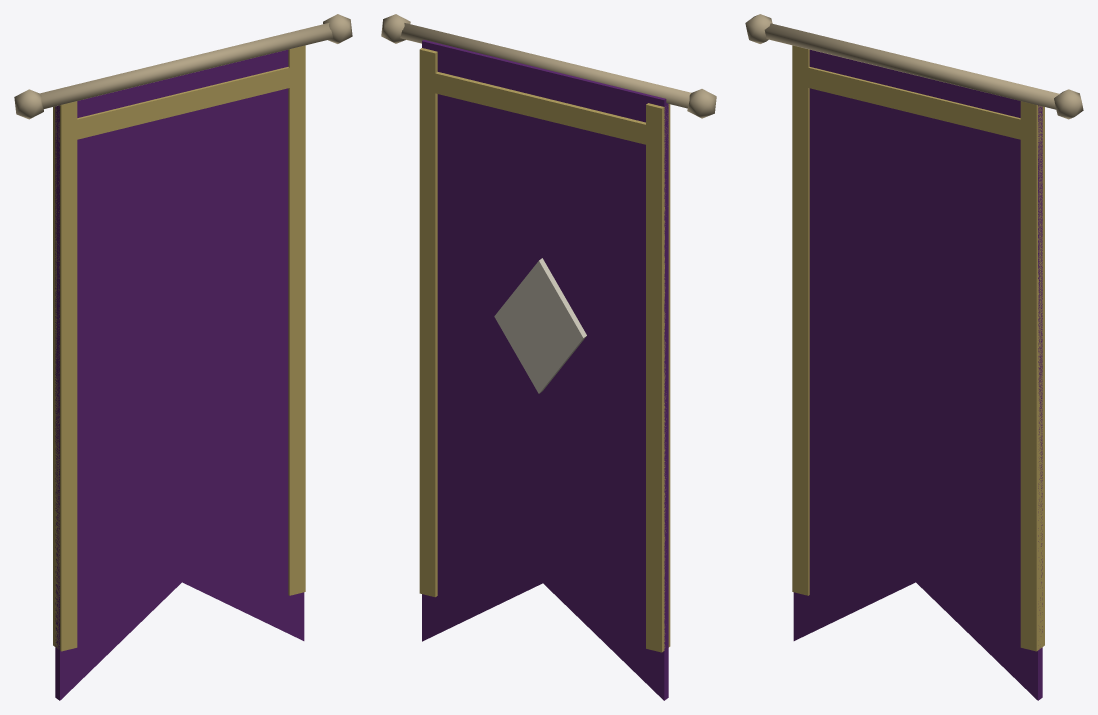
The model's file is lac_beetle_banner_v0.glb.
The picture shows the model from 3 angles, left to right: view 1: azimuth 30°, elevation 25°; view 2: azimuth 150°, elevation 25°; view 3: azimuth 330°, elevation 25°; orthographic projection.
Parts seen in each view (by area): view 1: lac_beetle_banner_v0; view 2: lac_beetle_banner_v0; view 3: lac_beetle_banner_v0.
Part boxes in pixels (x1,y1,x2,y2): lac_beetle_banner_v0: (14,14,352,700); lac_beetle_banner_v0: (381,14,716,700); lac_beetle_banner_v0: (745,14,1083,700).
Size of the model in its own units: 1.04 by 1.84 by 0.0933.
